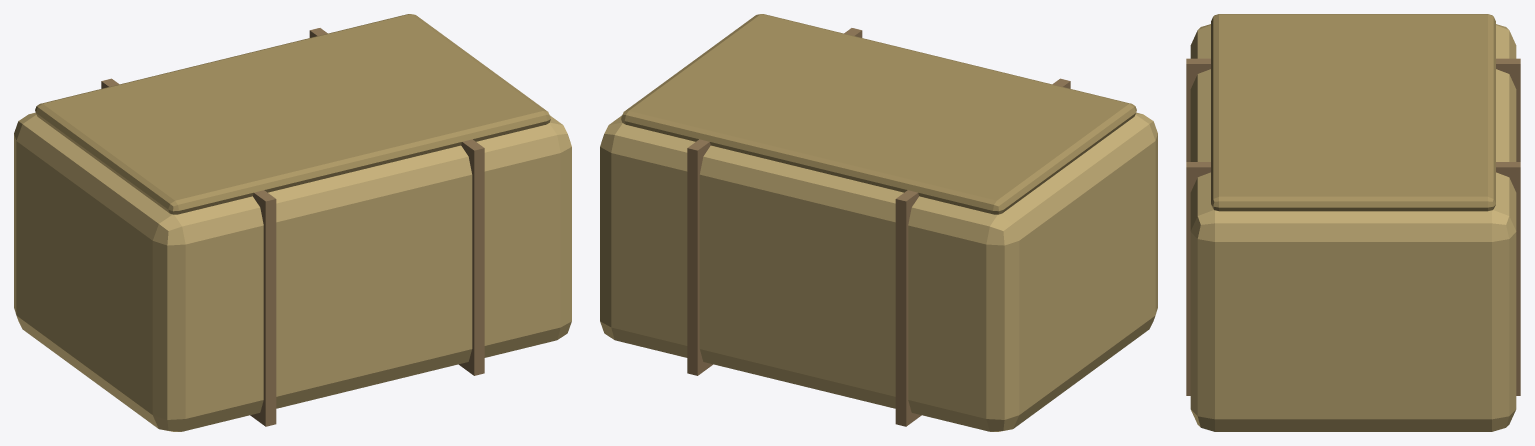
File: HayBale.glb
The picture shows the model from 3 angles, left to right: view 1: azimuth 30°, elevation 25°; view 2: azimuth 150°, elevation 25°; view 3: azimuth 270°, elevation 25°; orthographic projection.
Visible parts, largest first — view 1: HayBale; view 2: HayBale; view 3: HayBale.
Part boxes in pixels (box(x1,y1,x2,y2)): HayBale: box(14, 14, 571, 431); HayBale: box(600, 14, 1157, 431); HayBale: box(1186, 14, 1520, 431).
Size of the model in its own units: 1.2 by 0.64 by 0.82.
